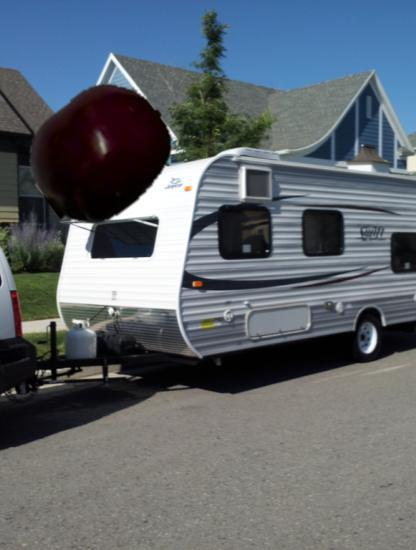Cherry: (29, 80, 174, 225)
